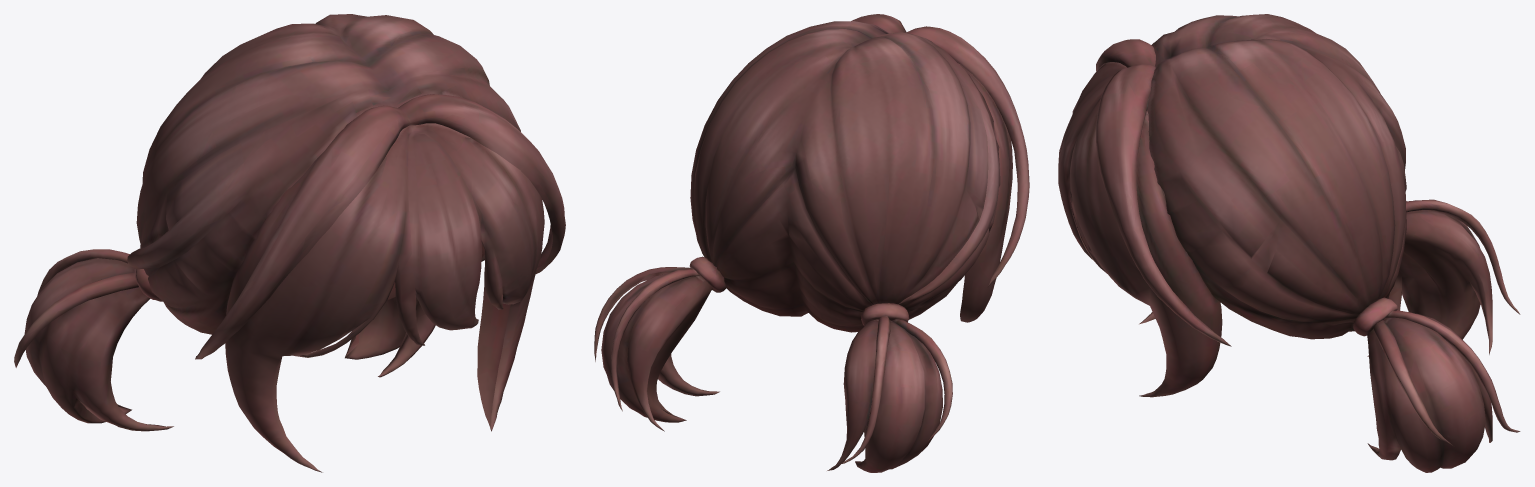
File: hair_2_twintail.glb
3 views of the same model, side by side, from view 1: azimuth 30°, elevation 25°; view 2: azimuth 150°, elevation 25°; view 3: azimuth 270°, elevation 25° (orthographic). The views are drawn at different scales.
Parts seen in each view (by area): view 1: Hair_2_twintail; view 2: Hair_2_twintail; view 3: Hair_2_twintail.
Part boxes in pixels (<box>): Hair_2_twintail: <box>14,14,565,472</box>; Hair_2_twintail: <box>594,14,1029,472</box>; Hair_2_twintail: <box>1058,14,1520,472</box>.
Bounding box in the file's own units: 0.6475 × 0.6015 × 0.667.
Materials: 1 (1 with a texture image).
